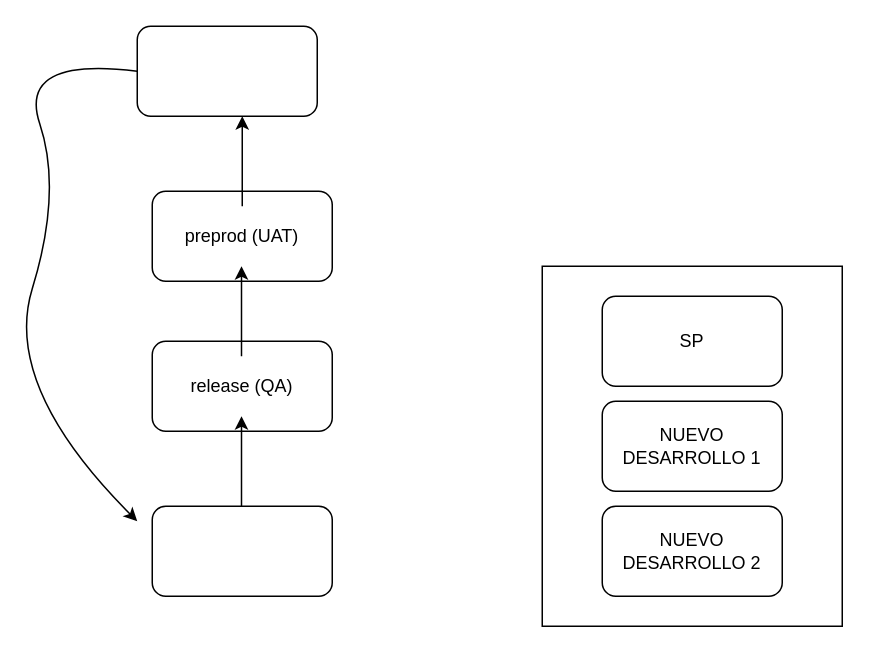
The diagram is 869 pixels wide and 653 high, and some of its shapes have lost their labels. Each missing label, with the centre of its shape:
"DEVC10 (PROD)" goes at pixel 226 70.
"develop (DESARROLLO)" goes at pixel 241 550.
